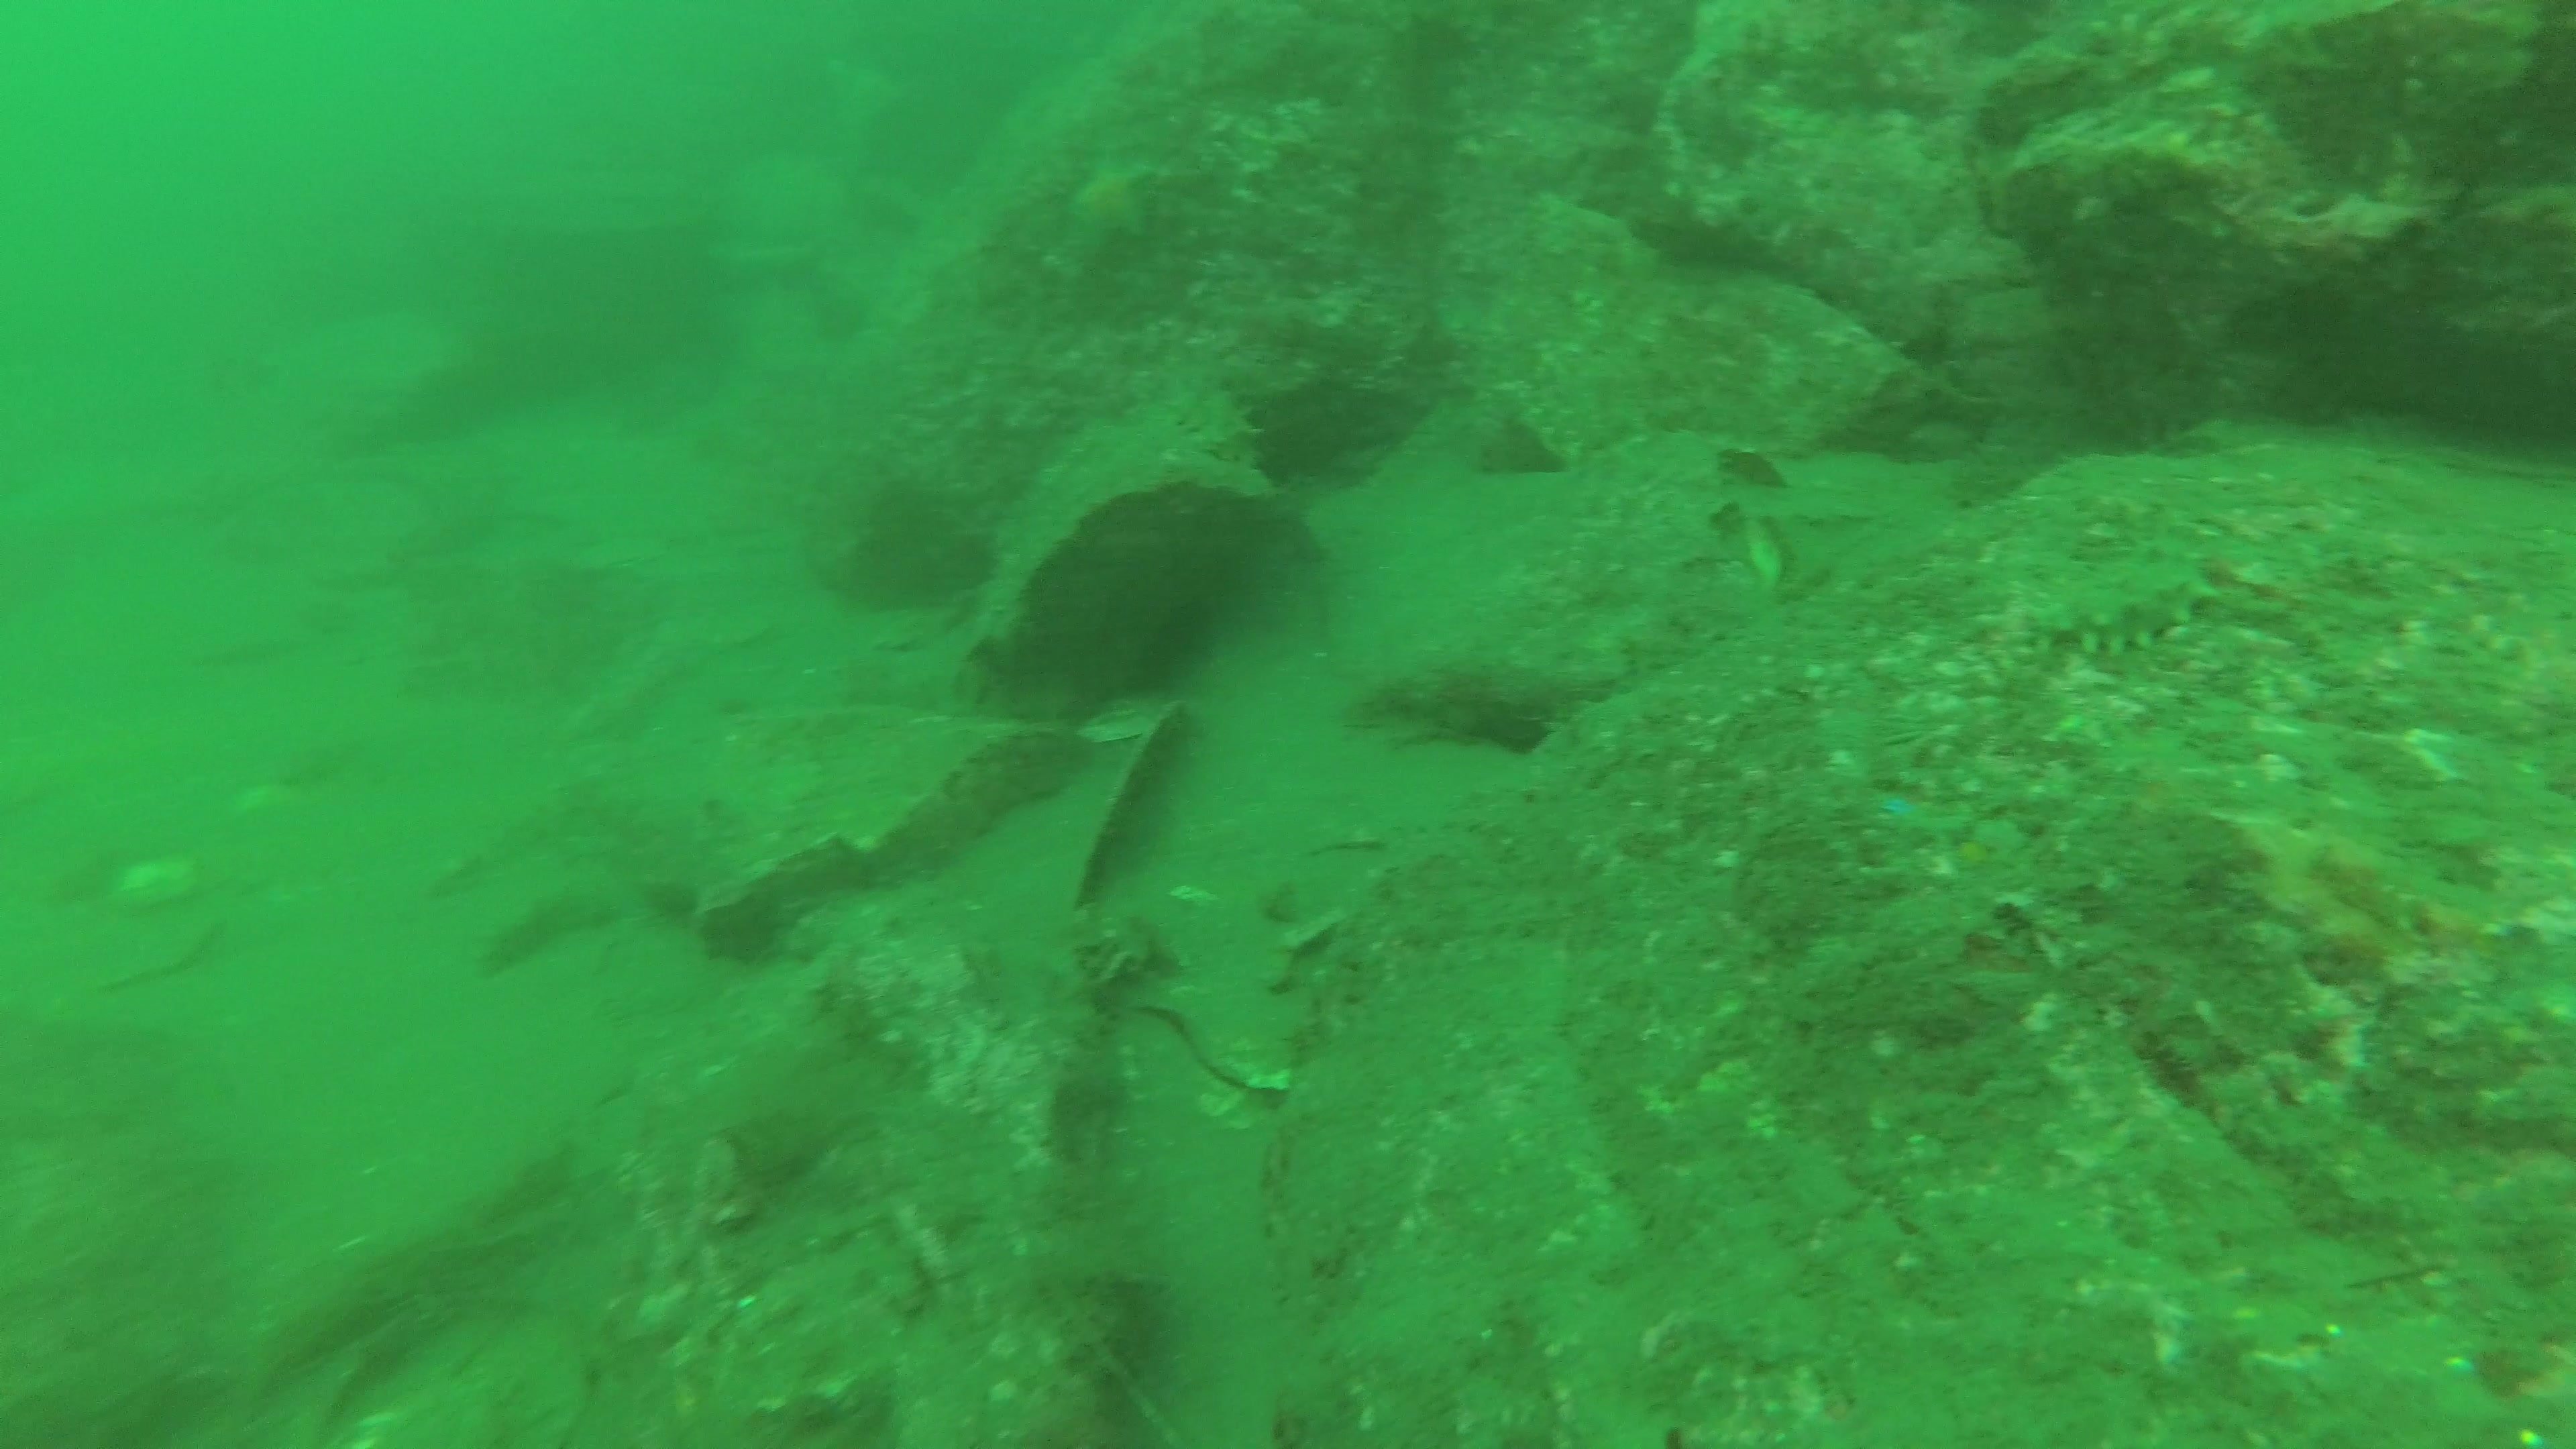holothurian: (1999, 545, 2222, 655)
starfish: (1074, 150, 1152, 255)
